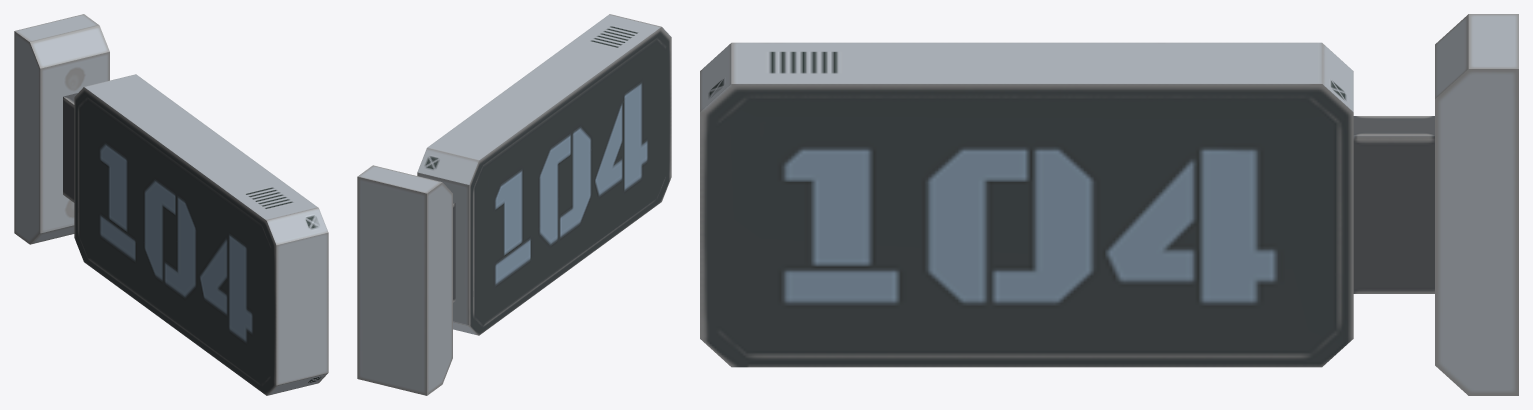
File: Prop_RoomPanel_104.fbx
The picture shows the model from 3 angles, left to right: view 1: azimuth 30°, elevation 25°; view 2: azimuth 150°, elevation 25°; view 3: azimuth 270°, elevation 25°; orthographic projection. The views are drawn at different scales.
Parts seen in each view (by area): view 1: Prop_RoomPanel_104; view 2: Prop_RoomPanel_104; view 3: Prop_RoomPanel_104.
Boxes of the visible parts, left/top/right/bottom form: Prop_RoomPanel_104: left=14, top=14, right=328, bottom=395; Prop_RoomPanel_104: left=357, top=14, right=671, bottom=395; Prop_RoomPanel_104: left=700, top=14, right=1518, bottom=395.
Size of the model in its own units: 8.3 by 23.04 by 52.27.
Materials: 1 (1 with a texture image).
